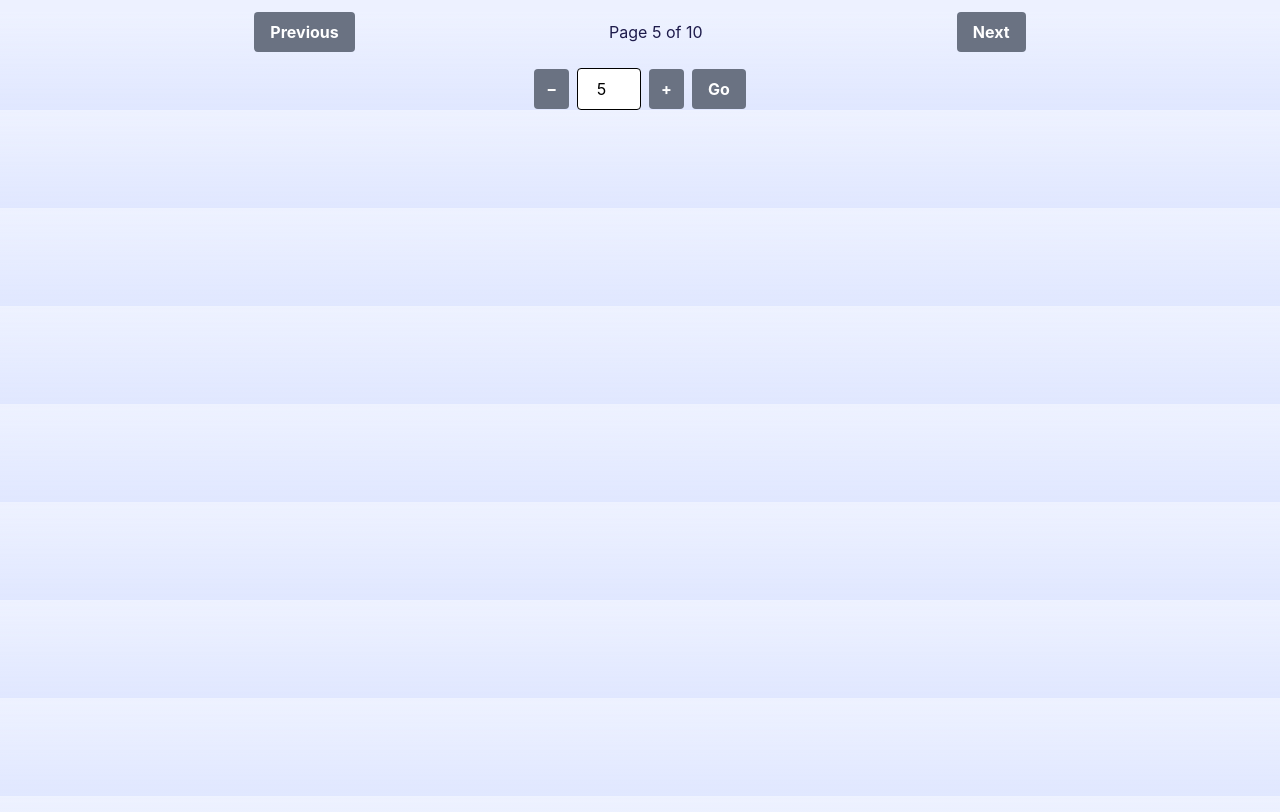
Test case: PaginationControls › stepper buttons › Increase button increments the input value
Click the button named "Increase page" at coordinates (667, 89), box left=649, top=69, right=684, bottom=109
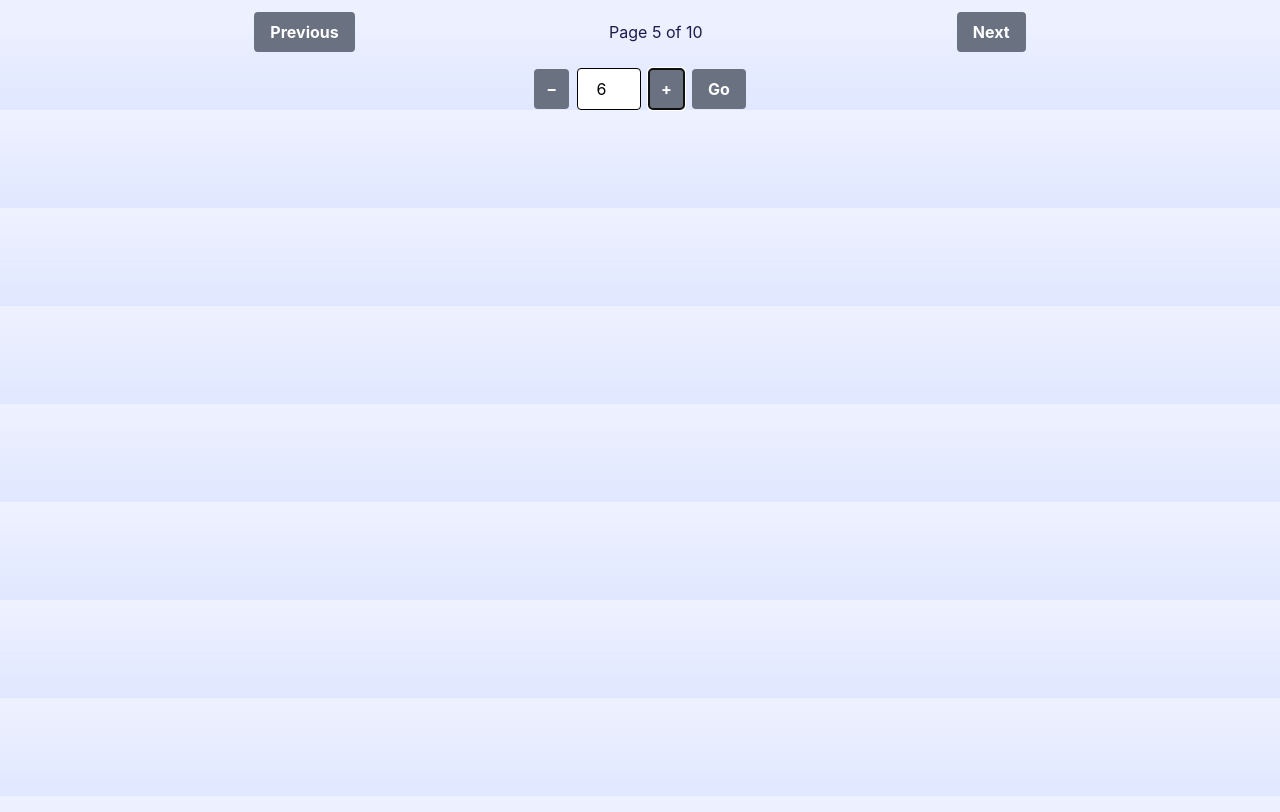
Expected: the number field named "Page Number Input" holds "6", left=577, top=68, right=641, bottom=110
